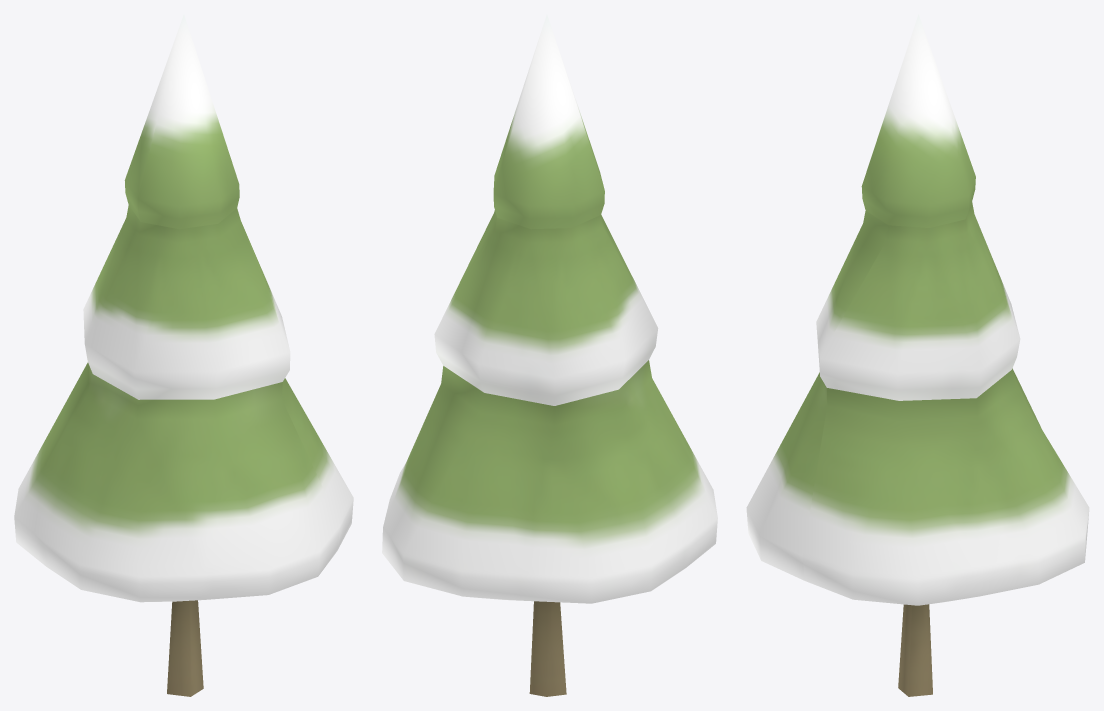
3 renders of one model, left to right at view 1: azimuth 30°, elevation 25°; view 2: azimuth 150°, elevation 25°; view 3: azimuth 270°, elevation 25°, orthographic.
Parts seen in each view (by area): view 1: wPine.003; view 2: wPine.003; view 3: wPine.003.
Boxes of the visible parts, <box> form: wPine.003: <box>14,14,353,696</box>; wPine.003: <box>382,14,717,696</box>; wPine.003: <box>746,14,1089,696</box>.
Size of the model in its own units: 8.86 by 19.81 by 9.11.
Materials: 1 (1 with a texture image).
